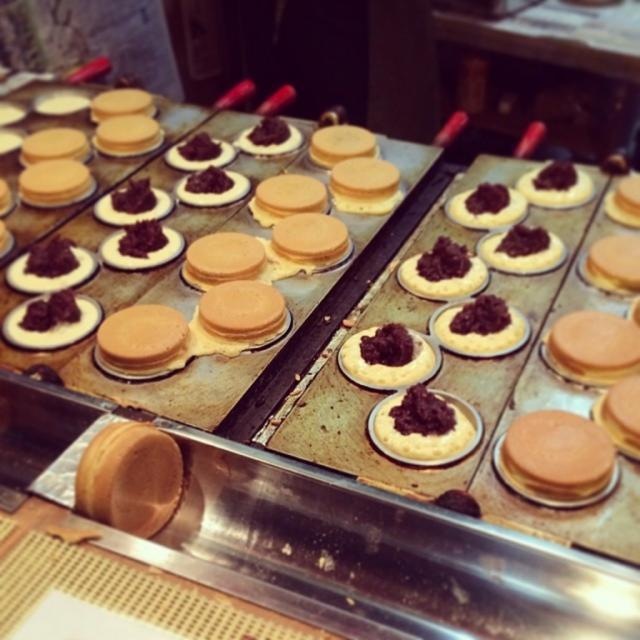Pancake: (504, 406, 623, 526), (76, 420, 185, 538), (539, 305, 639, 387), (375, 378, 472, 458), (94, 298, 188, 379), (198, 277, 292, 357), (343, 314, 441, 386), (430, 290, 527, 356), (0, 289, 98, 352), (396, 232, 485, 300), (11, 228, 97, 296), (267, 209, 349, 273), (182, 232, 266, 293), (100, 209, 181, 269), (513, 152, 590, 211), (481, 225, 565, 279), (596, 368, 639, 465), (95, 170, 168, 227), (445, 178, 526, 228), (580, 235, 639, 301), (251, 173, 327, 224), (88, 107, 157, 158), (22, 156, 90, 205), (178, 159, 245, 208), (17, 123, 88, 168), (313, 125, 382, 171), (168, 127, 233, 173), (238, 113, 305, 157), (333, 156, 391, 199), (97, 84, 154, 122), (602, 171, 639, 221), (0, 175, 13, 215), (0, 215, 11, 261)
